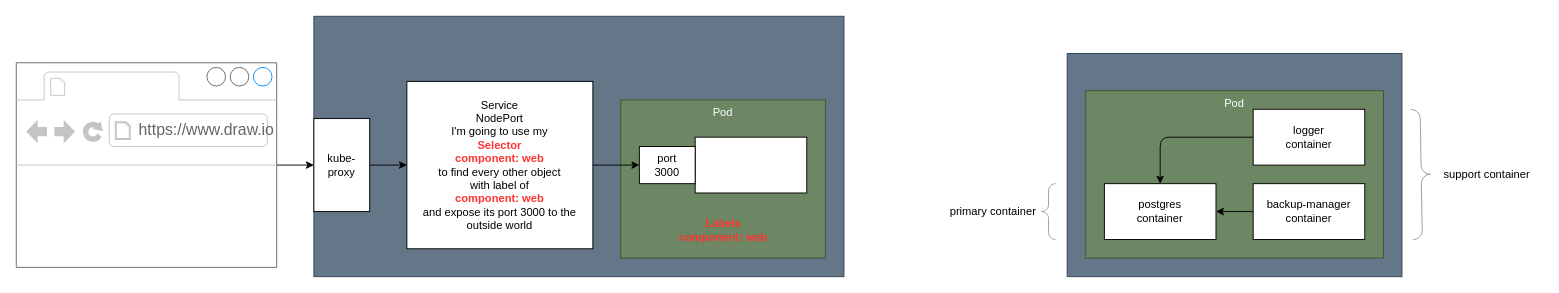
The diagram is 1559 pixels wide and 293 high, and some of its shapes have lost their labels. The shapes that lost their labels are listed below. From the top down, each one's box as (x1, y1, x2, y2) in pixels, then its label:
(71, 73, 174, 98): Page 1
(313, 15, 844, 277): Kubernetes Node VM created by Minikube/Rancher Desktop/Docker Desktop
(694, 136, 807, 193): nginx container
(1066, 53, 1402, 277): Node
